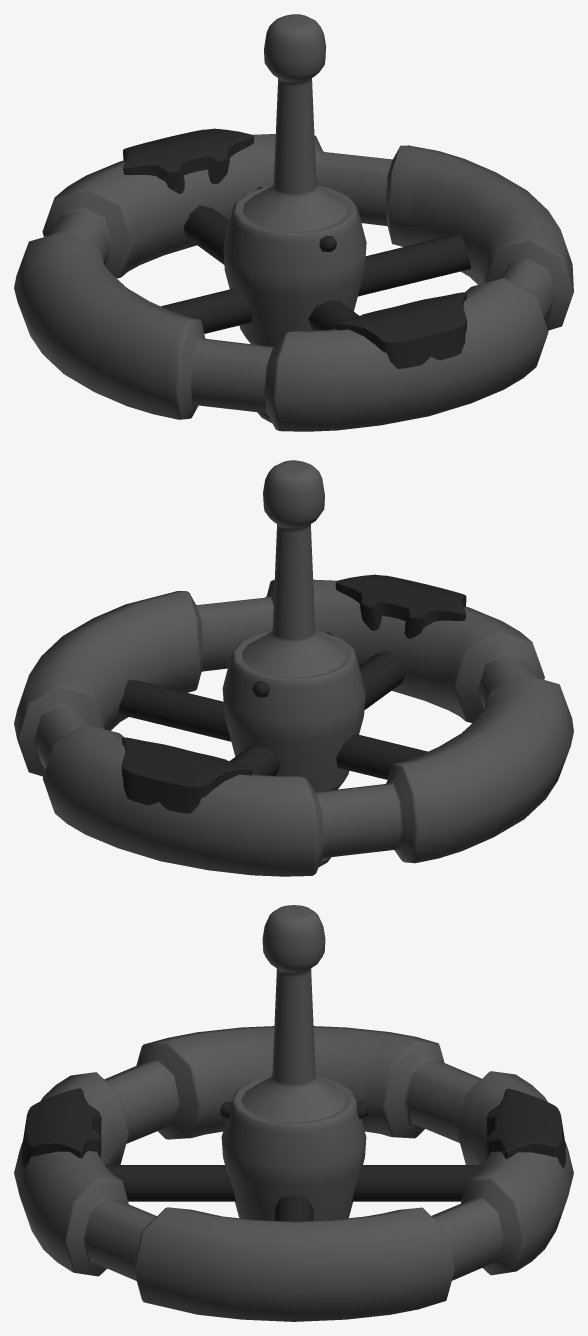
File: _Signal_buoy.fbx
The picture shows the model from 3 angles, top to bottom: view 1: azimuth 30°, elevation 25°; view 2: azimuth 150°, elevation 25°; view 3: azimuth 270°, elevation 25°; orthographic projection.
Parts seen in each view (by area): view 1: Signal_buoy; view 2: Signal_buoy; view 3: Signal_buoy.
Boxes of the visible parts, x1,y1,x2,y2 form: Signal_buoy: (14, 14, 573, 431); Signal_buoy: (14, 460, 573, 876); Signal_buoy: (14, 905, 573, 1321).
Size of the model in its own units: 240 by 188 by 240.
1 material, 1 textured.
